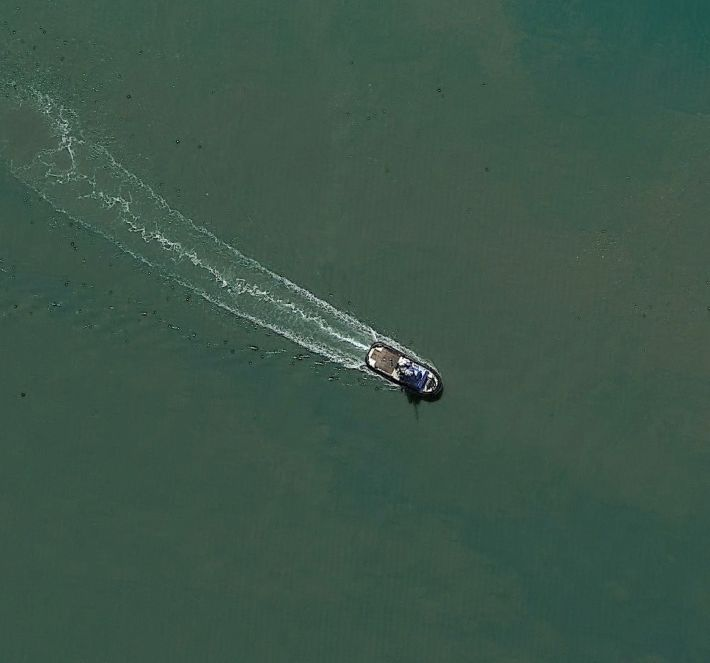boat: (362, 337, 445, 402)
